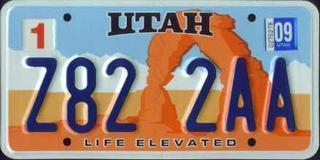placa de veiculo: (8, 0, 311, 152)
